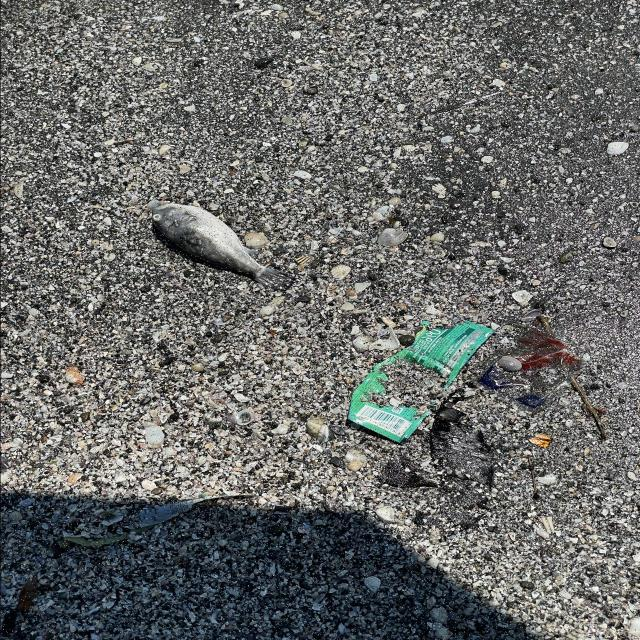plastic_waste: (347, 320, 496, 445)
